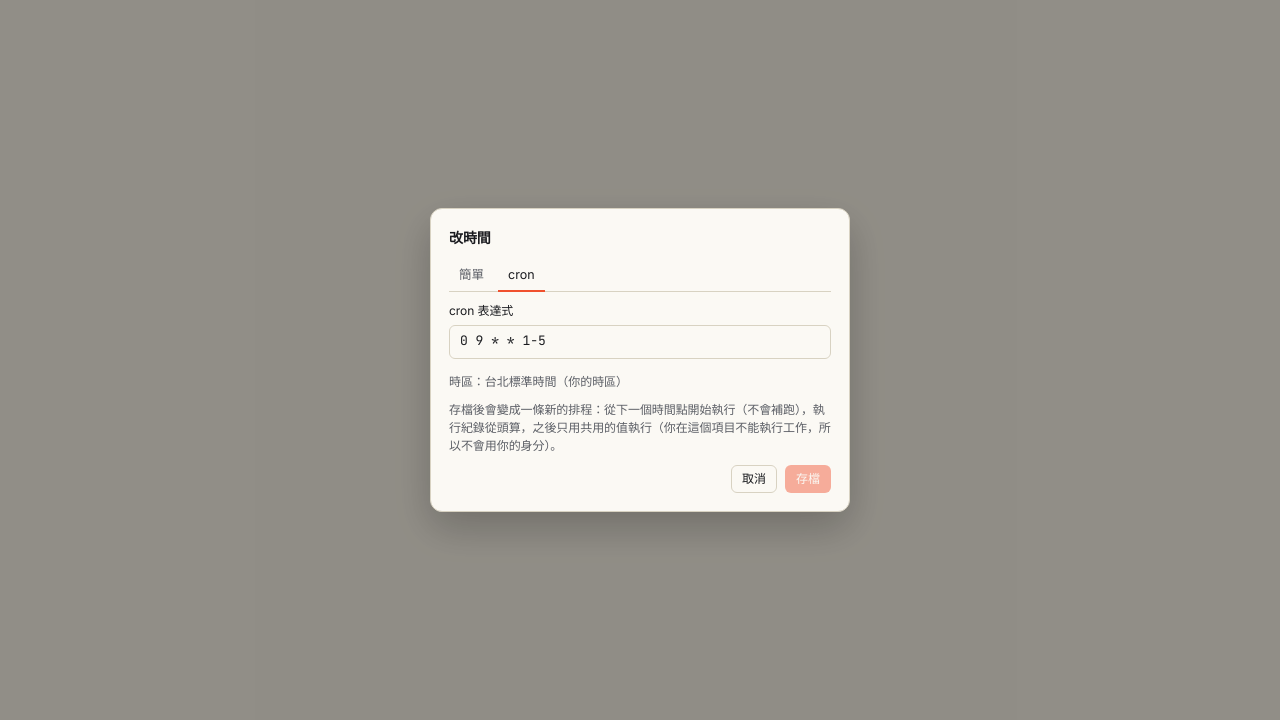
it: ScheduleTimeModal — 簡單 / cron (docs/plan-schedule-cron.md decision 4) › switching cron → 簡單 on one it cannot say starts over and says the cron goes
This screenshot has width=1280, height=720.
Click the tab "簡單".
click(472, 275)  # box [449,259,494,292]
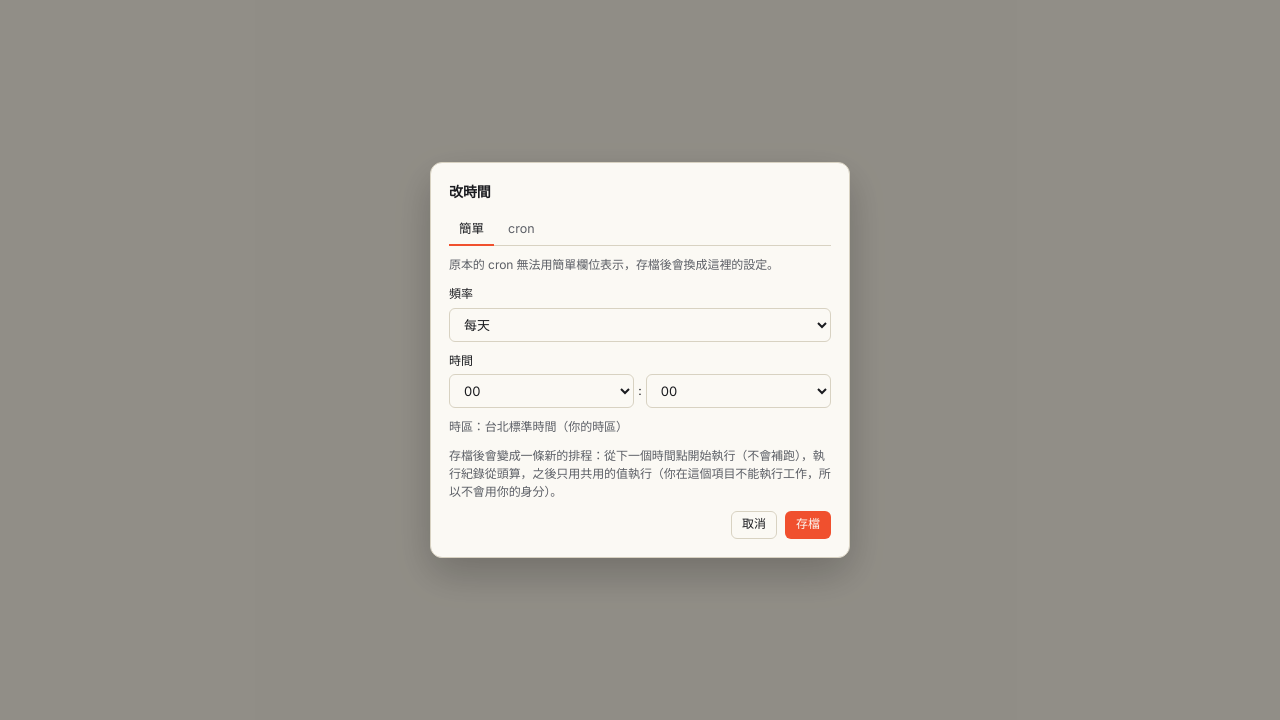
expect the text "原本的 cron 無法用簡單欄位表示，存檔後會換成這裡的設定。" is shown: met, box [449,256,831,275]
